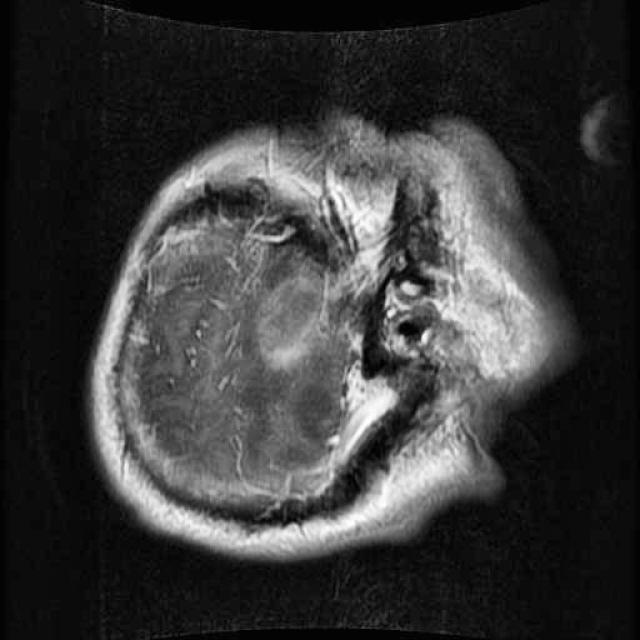Non-Tumor: (241, 241, 340, 382)
